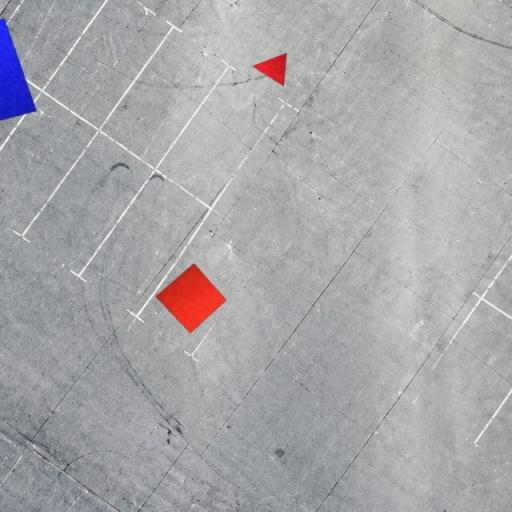RED_SQUARE: (155, 262, 227, 334)
